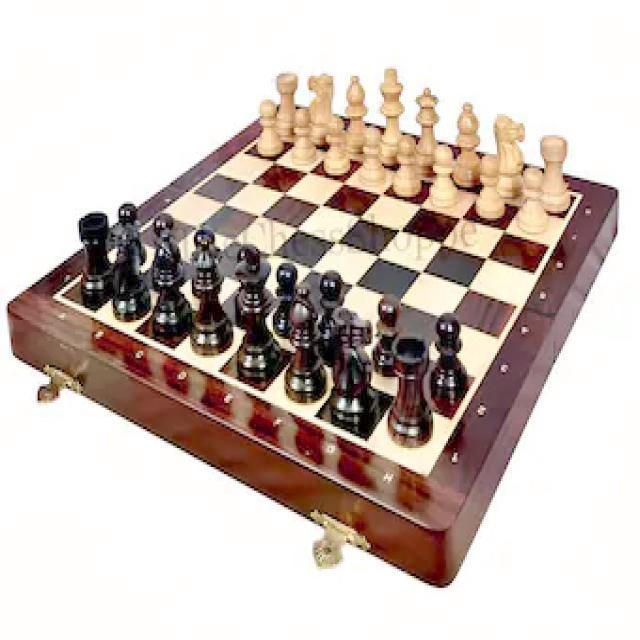chess-table-corners: (397, 449, 451, 497), (48, 278, 88, 326), (553, 186, 597, 216), (268, 110, 312, 138)
